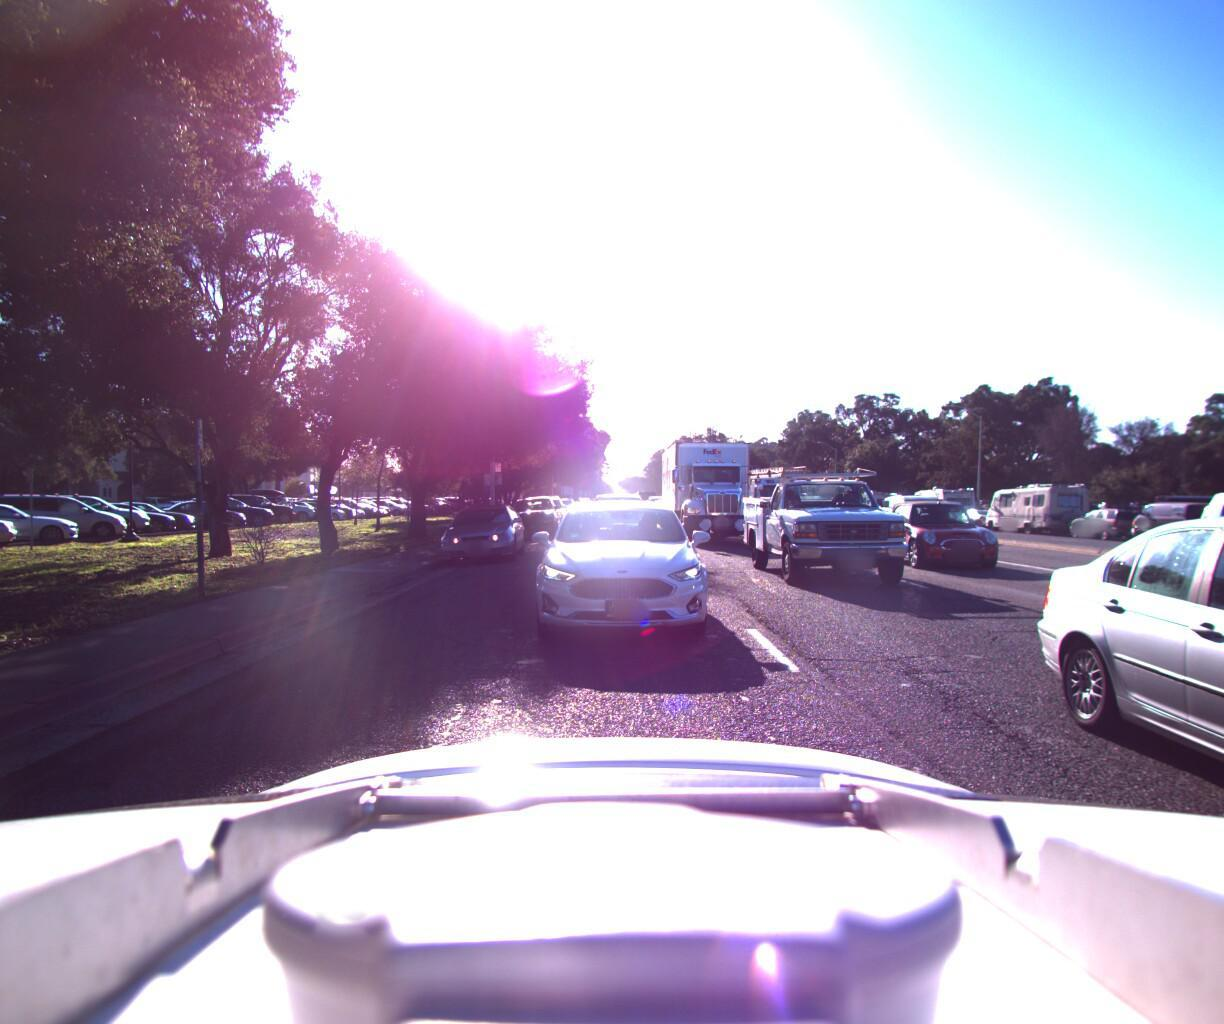car: (1056, 499, 1224, 1024), (524, 493, 715, 656), (741, 453, 926, 588), (875, 494, 1009, 569), (1186, 469, 1224, 721), (570, 492, 658, 573), (435, 498, 530, 561), (890, 489, 991, 543), (1124, 497, 1224, 544), (1067, 502, 1154, 536), (512, 492, 560, 538), (952, 503, 1005, 525), (639, 491, 669, 515)
other_vehicle: (979, 477, 1108, 531), (907, 480, 982, 522), (844, 483, 901, 518)
truck: (655, 431, 771, 545)
